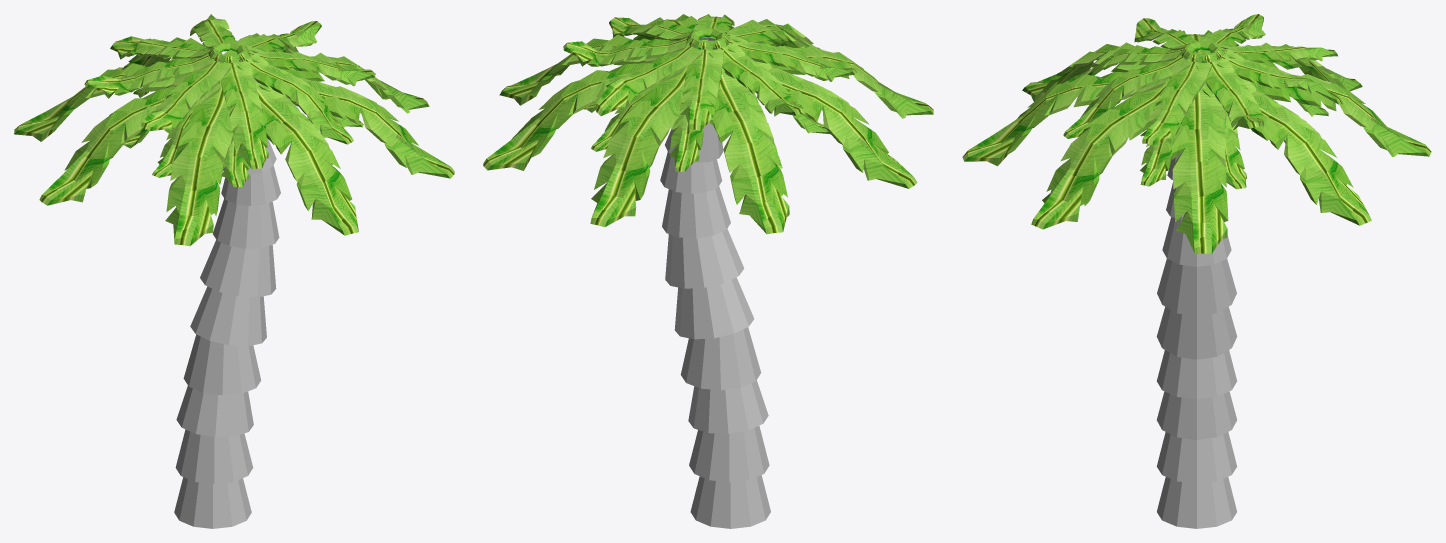
The model's file is palmtree1.fbx.
3 views of the same model, side by side, from view 1: azimuth 30°, elevation 25°; view 2: azimuth 150°, elevation 25°; view 3: azimuth 270°, elevation 25° (orthographic). The views are drawn at different scales.
Parts seen in each view (by area): view 1: palmtree; view 2: palmtree; view 3: palmtree.
Part boxes in pixels (x1,y1,x2,y2): palmtree: (14,14,454,528); palmtree: (483,14,933,528); palmtree: (962,14,1431,528).
Size of the model in its own units: 1762 by 1963 by 1762.
